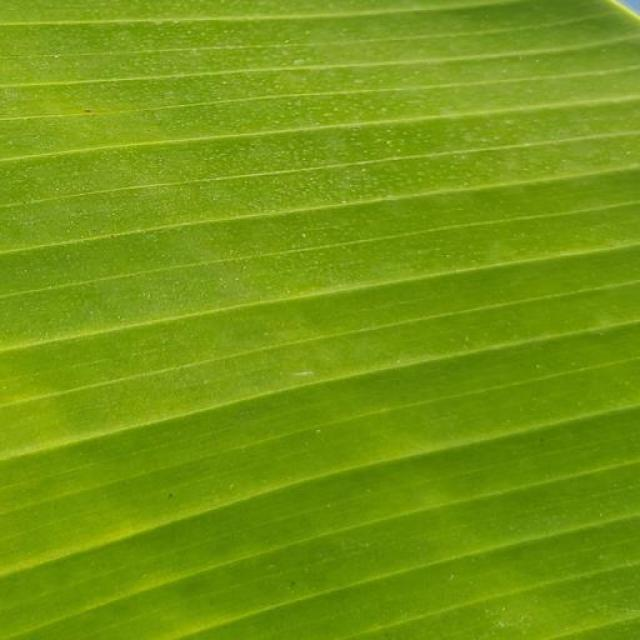Black_leaf_spot: (0, 0, 640, 640), (579, 0, 629, 21)
